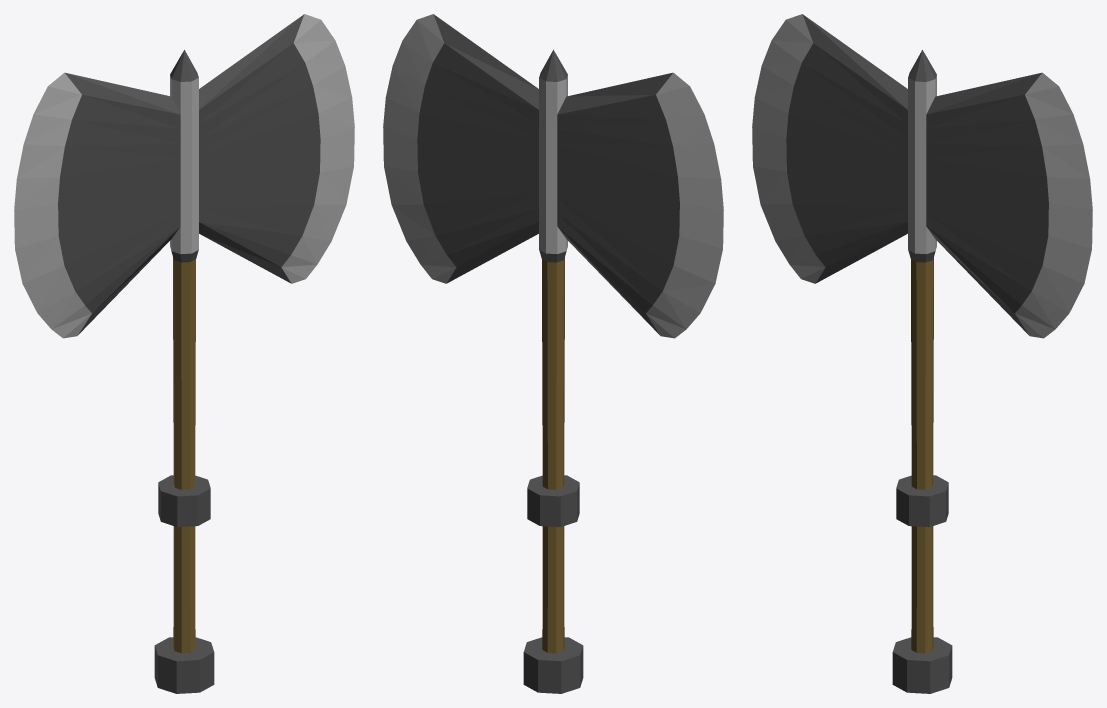
Rendered from GreatAxe.fbx.
The picture shows the model from 3 angles, left to right: view 1: azimuth 30°, elevation 25°; view 2: azimuth 150°, elevation 25°; view 3: azimuth 330°, elevation 25°; orthographic projection.
Parts seen in each view (by area): view 1: GreatAxe; view 2: GreatAxe; view 3: GreatAxe.
Part boxes in pixels (box(x1,y1,x2,y2)): GreatAxe: box(14, 14, 354, 693); GreatAxe: box(383, 14, 723, 693); GreatAxe: box(752, 14, 1092, 693).
Size of the model in its own units: 5.09 by 9.11 by 0.7979.
